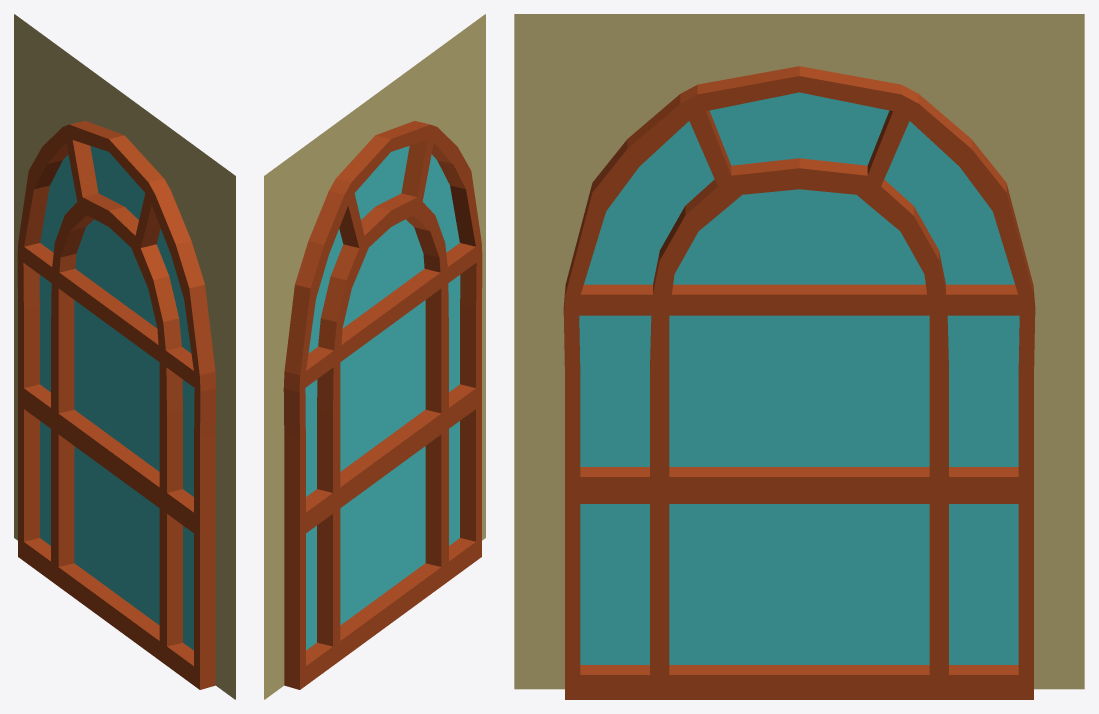
The model's file is window.fbx.
3 views of the same model, side by side, from view 1: azimuth 30°, elevation 25°; view 2: azimuth 150°, elevation 25°; view 3: azimuth 270°, elevation 25° (orthographic). The views are drawn at different scales.
Parts seen in each view (by area): view 1: Cube; view 2: Cube; view 3: Cube.
Part boxes in pixels (left/top/right/bottom): Cube: left=14, top=14, right=235, bottom=699; Cube: left=264, top=14, right=485, bottom=699; Cube: left=514, top=14, right=1084, bottom=699.
Size of the model in its own units: 25.46 by 399 by 305.
